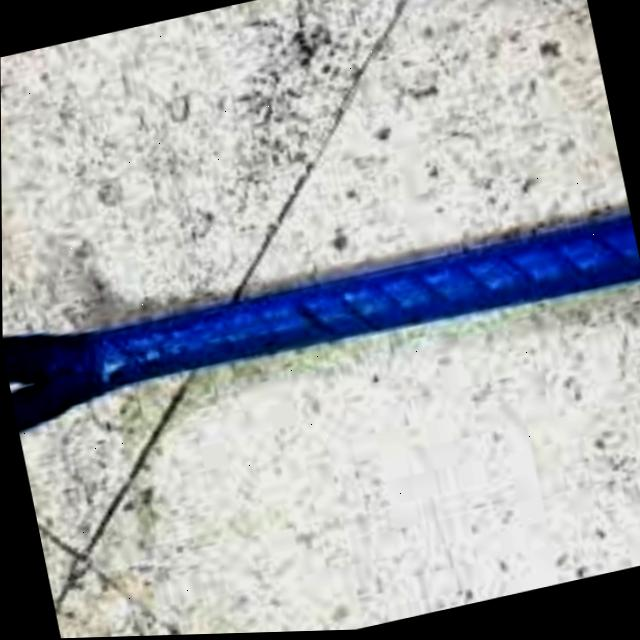crow bar: (1, 183, 640, 442)
